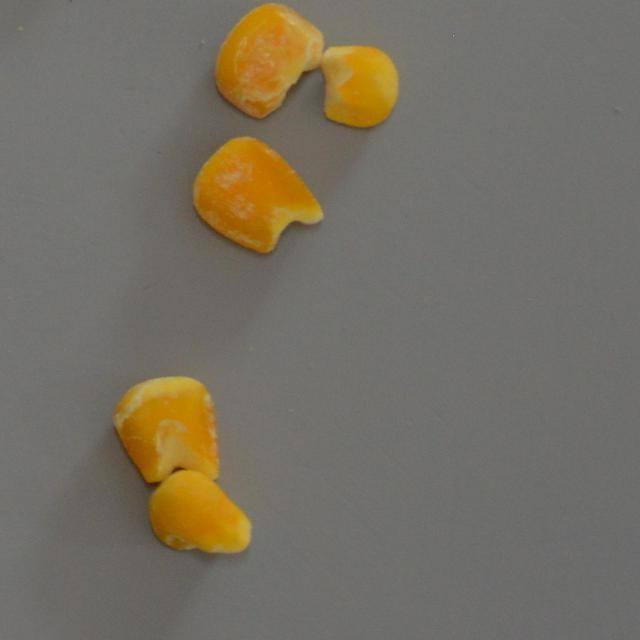no_canjicado: (148, 466, 255, 557), (321, 43, 400, 128)
pelicula: (190, 134, 324, 252), (213, 0, 324, 120), (110, 372, 222, 482)
